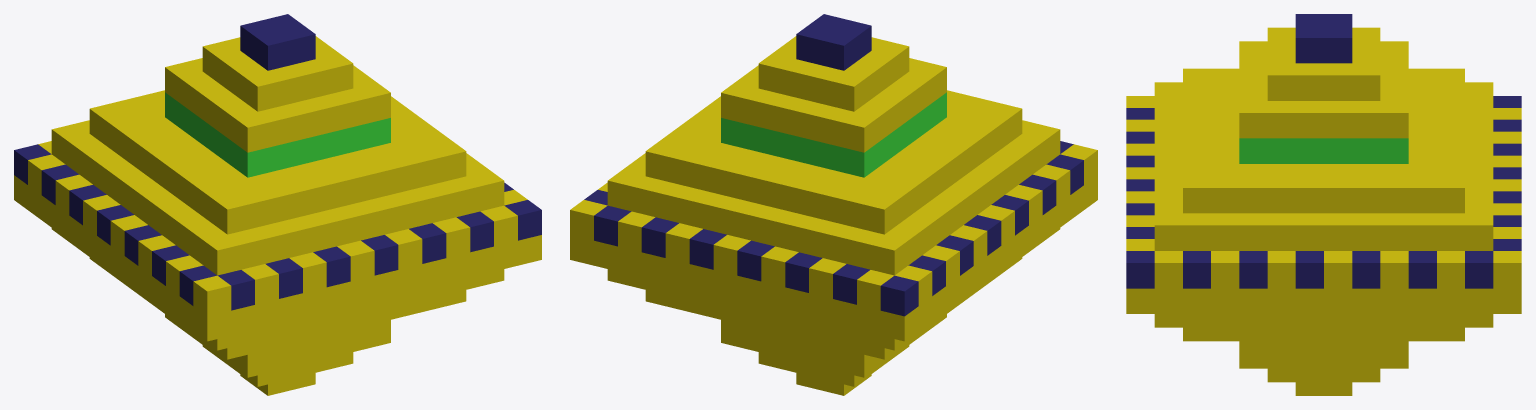
Rendered from FlyingFortress.glb.
The picture shows the model from 3 angles, left to right: view 1: azimuth 30°, elevation 25°; view 2: azimuth 150°, elevation 25°; view 3: azimuth 270°, elevation 25°; orthographic projection. The views are drawn at different scales.
Parts seen in each view (by area): view 1: VoxelModel; view 2: VoxelModel; view 3: VoxelModel.
Part boxes in pixels (bbox=[...]): VoxelModel: bbox=[14, 14, 541, 395]; VoxelModel: bbox=[570, 14, 1097, 395]; VoxelModel: bbox=[1126, 14, 1521, 395].
Bounding box in the file's own units: 14 × 14 × 14.
